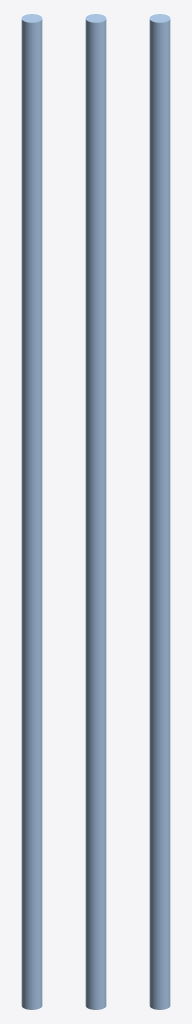
File: tubo.obj
The picture shows the model from 3 angles, left to right: view 1: azimuth 90°, elevation 25°; view 2: azimuth 150°, elevation 25°; view 3: azimuth 270°, elevation 25°; orthographic projection.
Visible parts, largest first — view 1: tubo:pCylinder1; view 2: tubo:pCylinder1; view 3: tubo:pCylinder1.
Boxes of the visible parts, x1,y1,x2,y2 form: tubo:pCylinder1: [21, 14, 42, 1009]; tubo:pCylinder1: [85, 14, 106, 1009]; tubo:pCylinder1: [149, 14, 170, 1009].
Size of the model in its own units: 0.0501 by 2.6 by 0.0501.
Materials: 1 (1 with a texture image).
